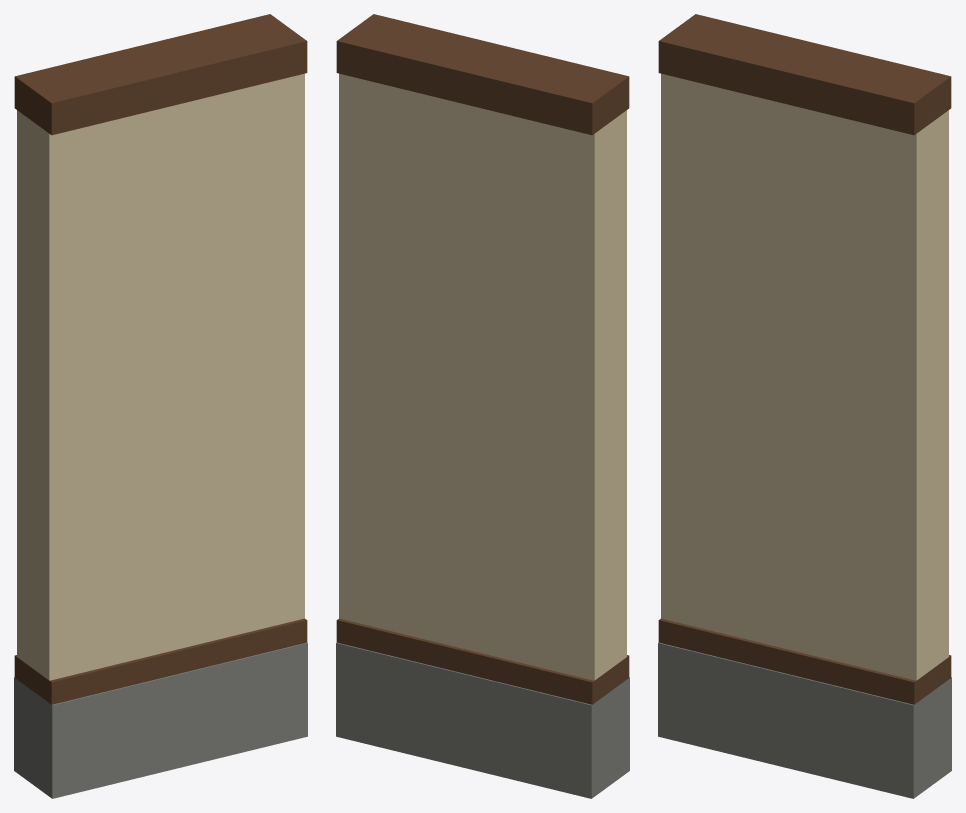
The model's file is Wall.fbx.
The picture shows the model from 3 angles, left to right: view 1: azimuth 30°, elevation 25°; view 2: azimuth 150°, elevation 25°; view 3: azimuth 330°, elevation 25°; orthographic projection.
Visible parts, largest first — view 1: Wall; view 2: Wall; view 3: Wall.
Part boxes in pixels (x1,y1,x2,y2): Wall: (14,14,307,798); Wall: (336,14,629,798); Wall: (658,14,951,798).
Size of the model in its own units: 1 by 2.6 by 0.26.
